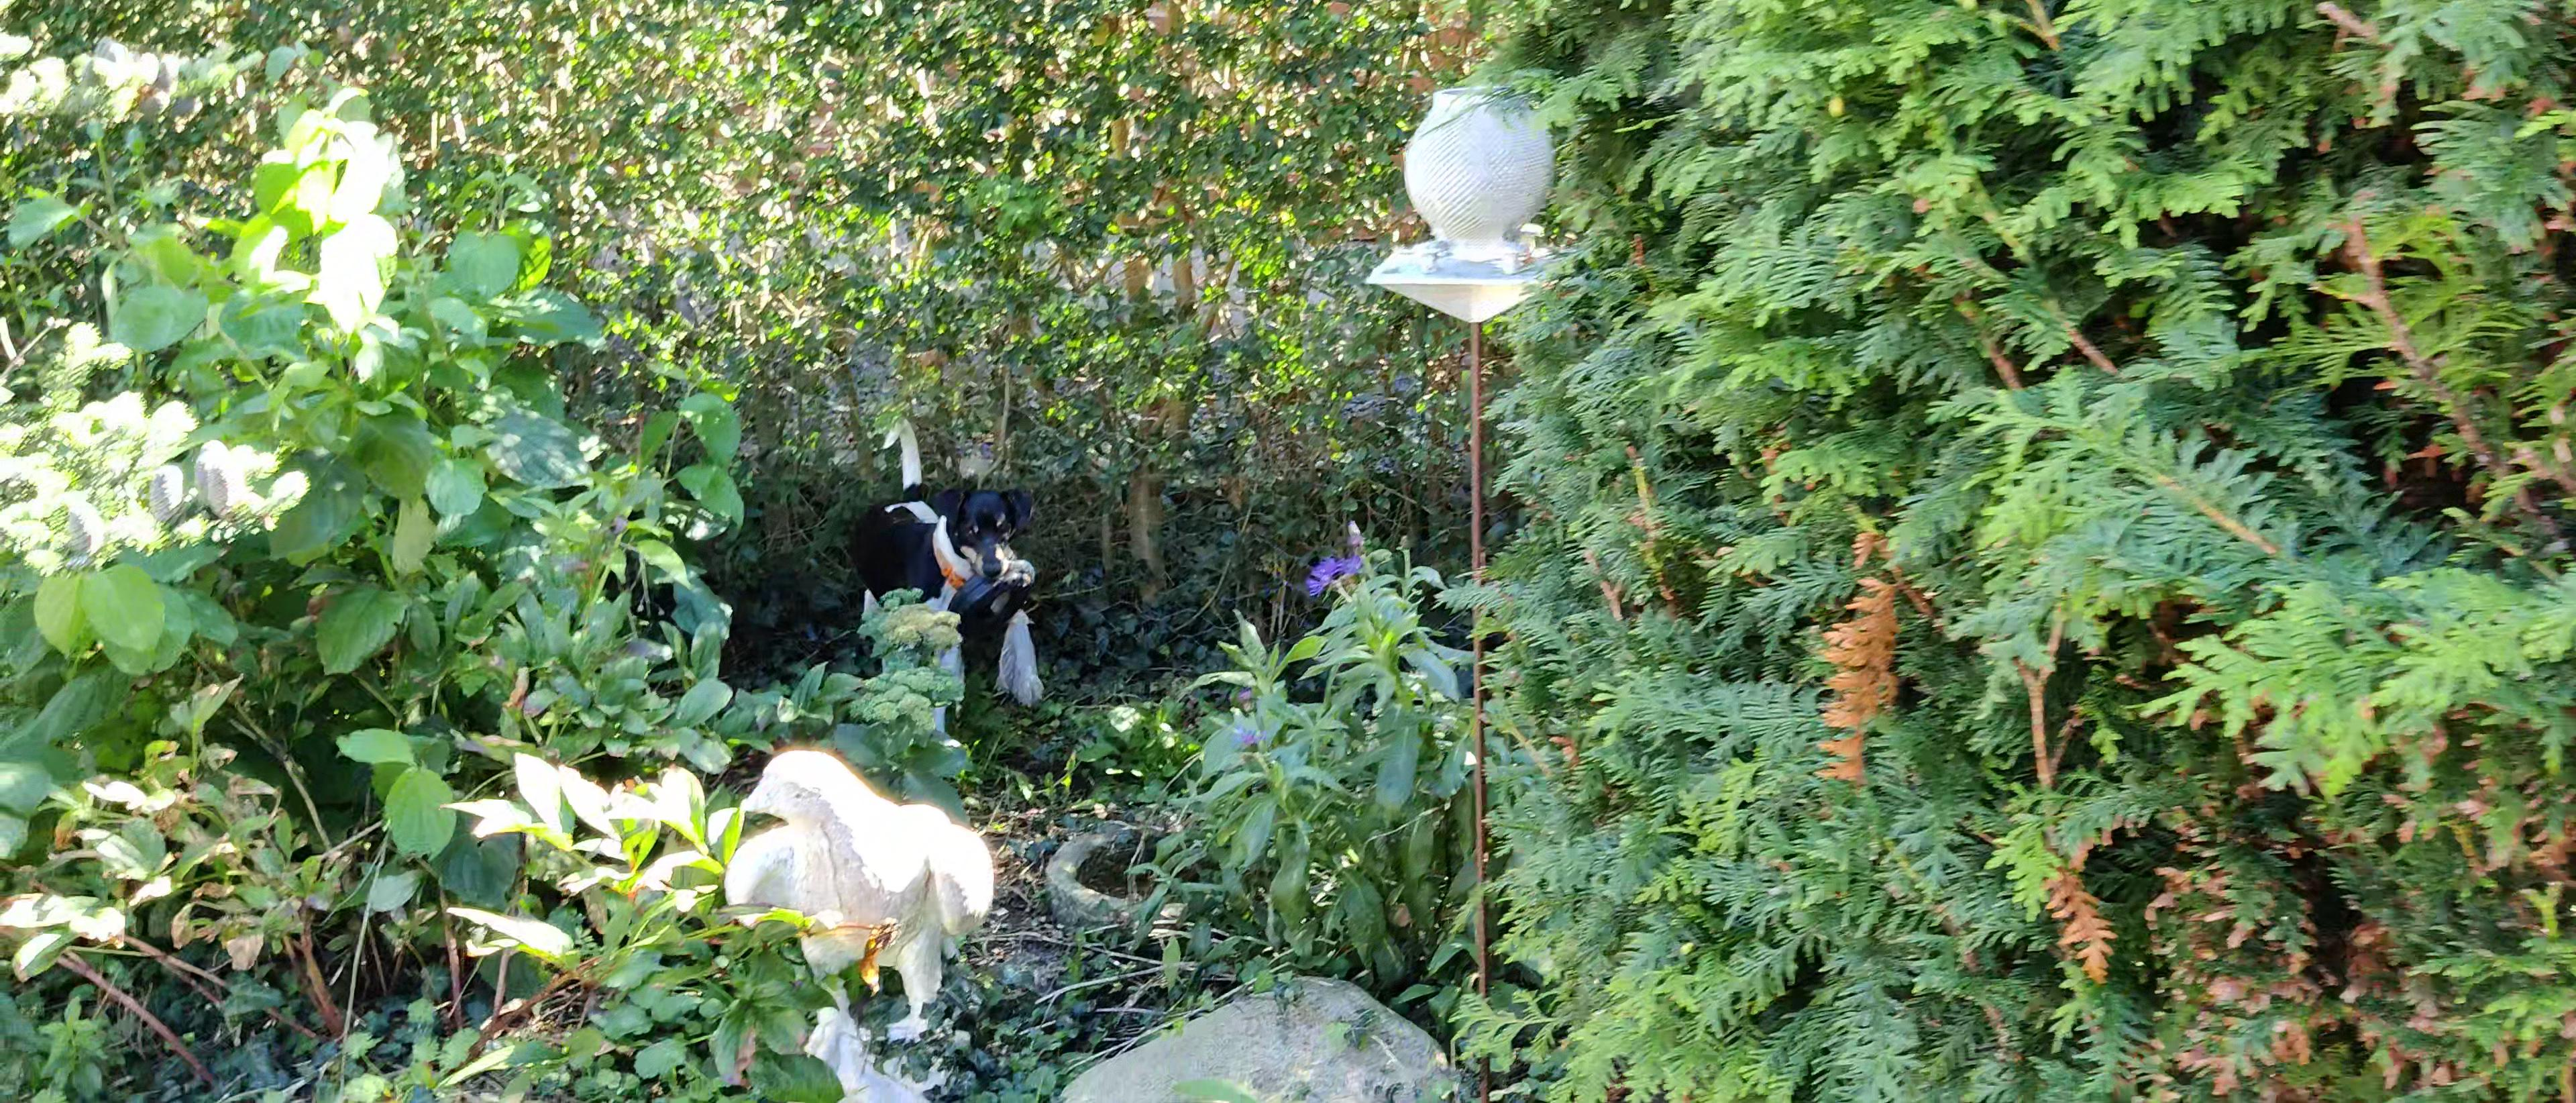Dog: (831, 403, 1037, 728)
